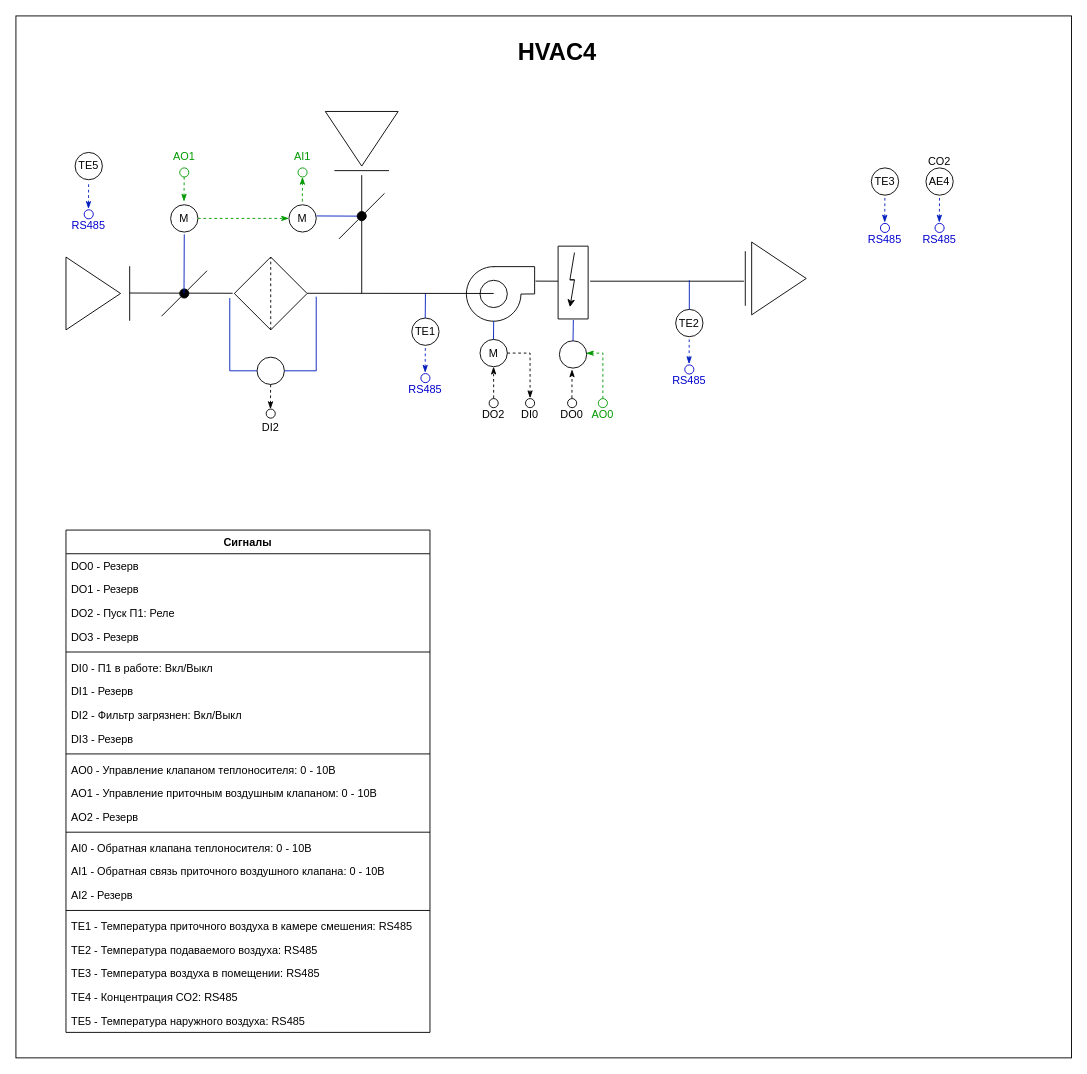
The diagram is 1087 pixels wide and 1074 high, and some of its shapes have lost their labels. The centre of each missing label's shape, as x and y in pixels:
"PD1" goes at point (270, 370).
"SK1" goes at point (572, 354).
